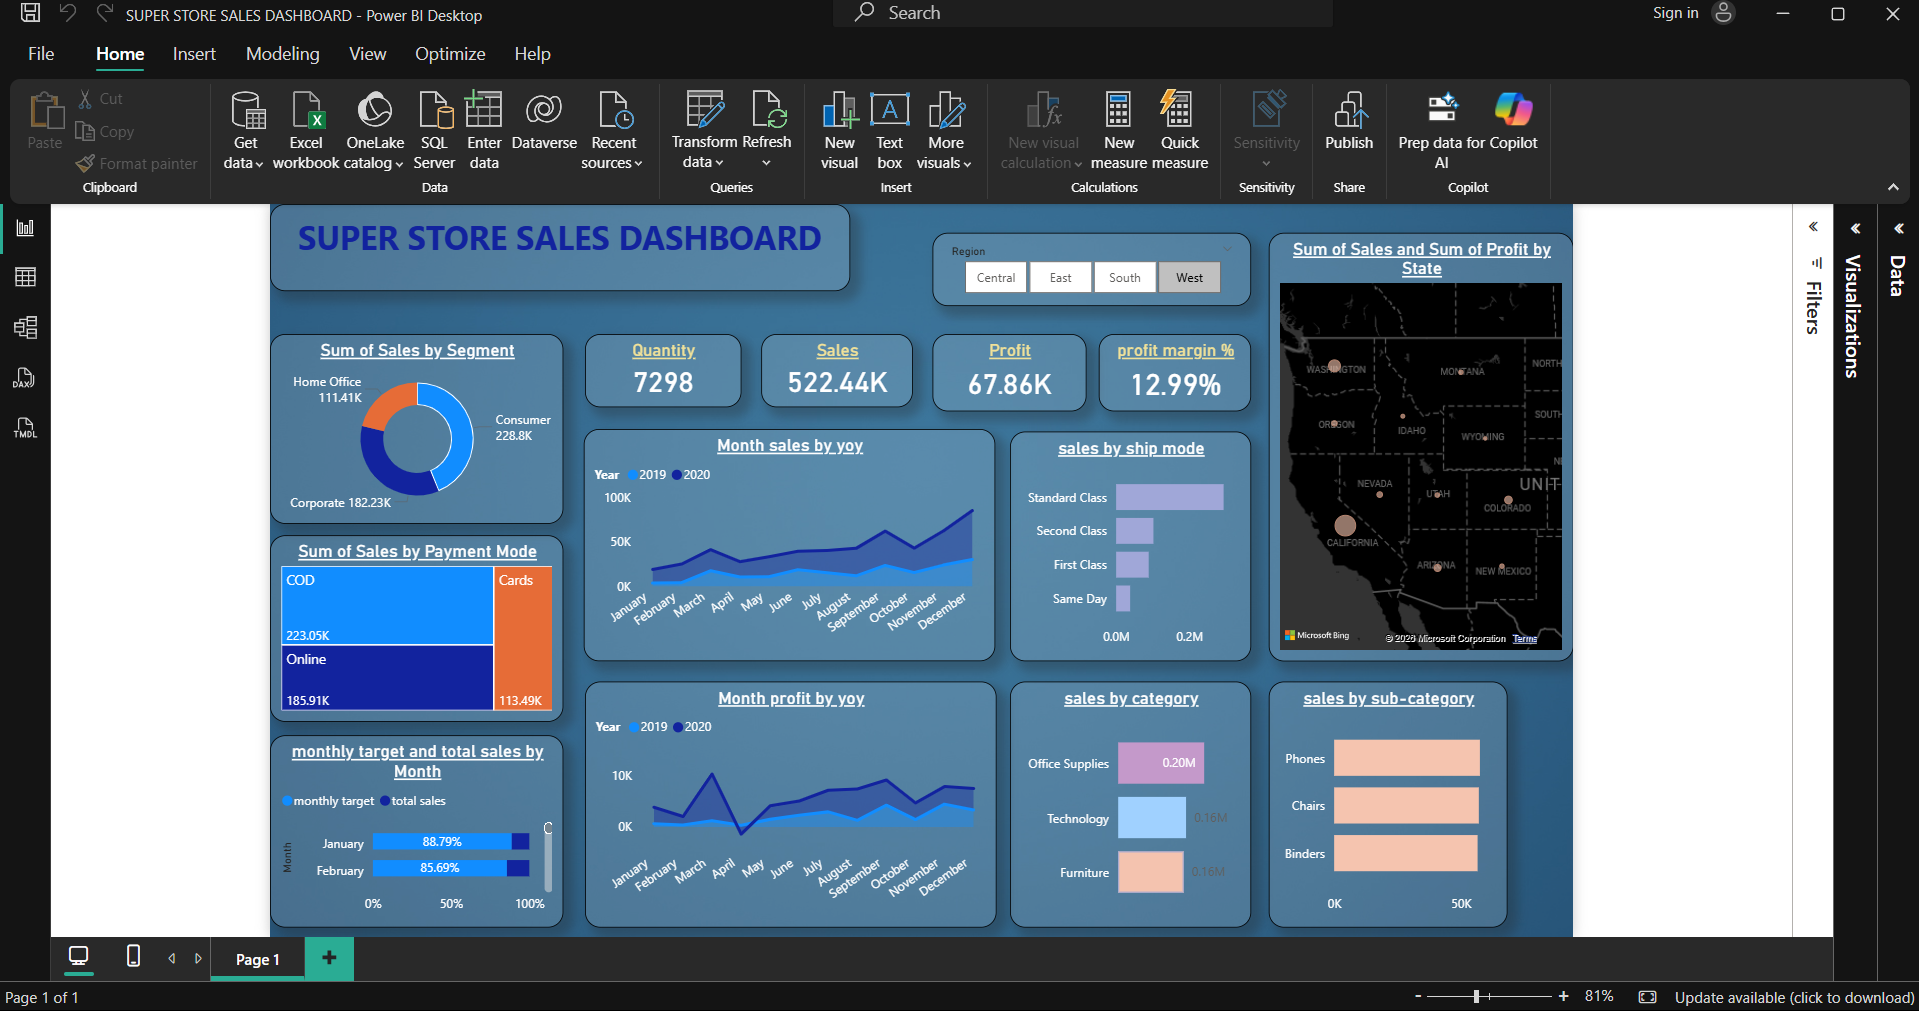

This screenshot's page, from the dashboard's own definition file:
{"tool":"powerbi","page":{"name":"Page 1","canvas":[1280,720],"ordinal":0},"visuals":[{"type":"clusteredBarChart","title":"sales by category","fields":{"Category":["Sheet1.Category"],"Y":["Sum(Sheet1.Sales)"]},"box":[726.4,468.7,236.8,241.7],"z":0},{"type":"clusteredBarChart","title":"sales by  sub-category","fields":{"Category":["Sheet1.Sub-Category"],"Y":["Sum(Sheet1.Sales)"]},"box":[980.4,468.7,234.4,241.7],"z":1000},{"type":"clusteredBarChart","title":"sales by ship mode","fields":{"Category":["Sheet1.Ship Mode"],"Y":["Sum(Sheet1.Sales)"]},"box":[726.4,223.3,236.8,225.8],"z":2000},{"type":"stackedAreaChart","title":"Month sales by yoy","fields":{"Category":["Sheet1.Order Date.Variation.Date Hierarchy.Month","Sheet1.Order Date.Variation.Date Hierarchy.Day"],"Y":["Sum(Sheet1.Sales)"],"Series":["Sheet1.Order Date.Variation.Date Hierarchy.Year"]},"box":[308,220.9,403.7,228.2],"z":3000},{"type":"stackedAreaChart","title":"Month profit by yoy","fields":{"Category":["Sheet1.Order Date.Variation.Date Hierarchy.Month","Sheet1.Order Date.Variation.Date Hierarchy.Day"],"Series":["Sheet1.Order Date.Variation.Date Hierarchy.Year"],"Y":["Sum(Sheet1.Profit)"]},"box":[309.2,468.7,403.7,241.7],"z":4000},{"type":"map","fields":{"Category":["Sheet1.State"],"Size":["Sum(Sheet1.Sales)"]},"box":[980.4,28.2,299.4,420.9],"z":5000},{"type":"donutChart","fields":{"Category":["Sheet1.Segment"],"Y":["Sum(Sheet1.Sales)"]},"box":[0,127.6,288.3,186.5],"z":6000},{"type":"treemap","fields":{"Group":["Sheet1.Payment Mode"],"Values":["Sum(Sheet1.Sales)"]},"box":[0,325.2,288.3,182.8],"z":7000},{"type":"slicer","fields":{"Values":["Sheet1.Region"]},"box":[650.3,28.2,312.9,72.4],"z":8000},{"type":"textbox","box":[0,0,569.3,85.9],"z":9000},{"type":"card","title":"Sales","fields":{"Values":["Sum(Sheet1.Sales)"]},"box":[482.2,127.6,148.5,72.4],"z":10000},{"type":"card","title":"Quantity","fields":{"Values":["Sum(Sheet1.Quantity)"]},"box":[309.2,127.6,153.4,72.4],"z":11000},{"type":"card","title":"Profit","fields":{"Values":["Sum(Sheet1.Profit)"]},"box":[650.3,127.6,150.9,76.1],"z":12000},{"type":"card","title":"profit margin %","fields":{"Values":["Sheet1.profit margin %"]},"box":[813.5,127.6,149.7,76.1],"z":13000},{"type":"hundredPercentStackedBarChart","fields":{"Category":["Sheet1.Order Date.Variation.Date Hierarchy.Month"],"Y":["Sheet1.monthly target","Sheet1.total sales"]},"box":[0,521.5,288.3,189],"z":14000}]}

Visuals, with their boxes on the page's 1280x720 design canvas (x1, y1, x2, y2). These are canvas units, not pixel positions in the 1919x1011 screenshot, which may show the page scaled, cropped or inside an application window:
"sales by category" clusteredBarChart: Rect(726, 469, 963, 710)
"sales by  sub-category" clusteredBarChart: Rect(980, 469, 1215, 710)
"sales by ship mode" clusteredBarChart: Rect(726, 223, 963, 449)
"Month sales by yoy" stackedAreaChart: Rect(308, 221, 712, 449)
"Month profit by yoy" stackedAreaChart: Rect(309, 469, 713, 710)
map - Sheet1.State x Sum(Sheet1.Sales): Rect(980, 28, 1280, 449)
donutChart - Sheet1.Segment x Sum(Sheet1.Sales): Rect(0, 128, 288, 314)
treemap - Sheet1.Payment Mode x Sum(Sheet1.Sales): Rect(0, 325, 288, 508)
slicer - Sheet1.Region: Rect(650, 28, 963, 101)
textbox: Rect(0, 0, 569, 86)
"Sales" card: Rect(482, 128, 631, 200)
"Quantity" card: Rect(309, 128, 463, 200)
"Profit" card: Rect(650, 128, 801, 204)
"profit margin %" card: Rect(814, 128, 963, 204)
hundredPercentStackedBarChart - Sheet1.Order Date.Variation.Date Hierarchy.Month x Sheet1.monthly target: Rect(0, 522, 288, 710)
